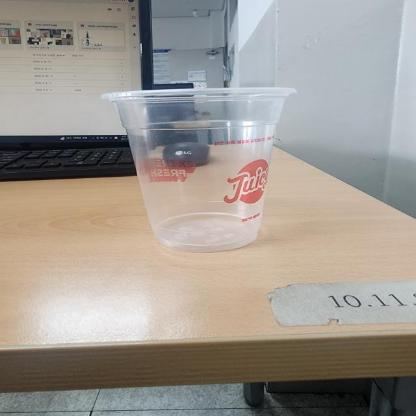Plastic Cup: (101, 86, 299, 254)
